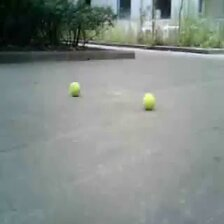tennis: (142, 93, 155, 109), (69, 81, 80, 95)
